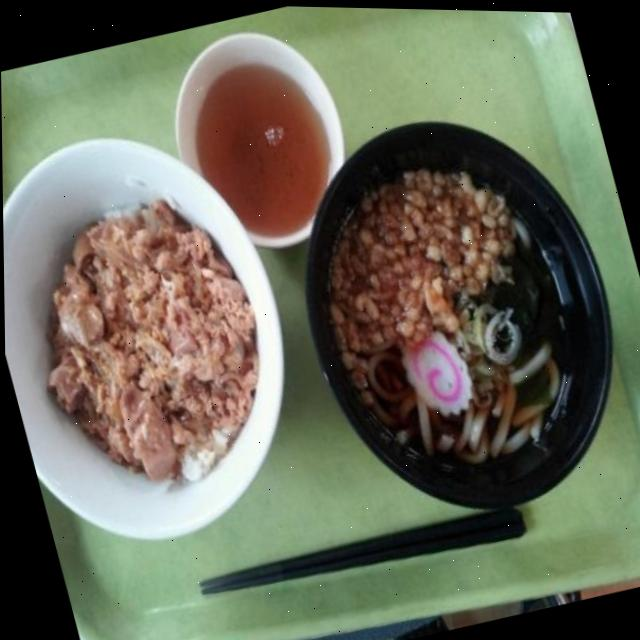米饭主食: (1, 115, 320, 564)
面条主食: (261, 77, 640, 525)
